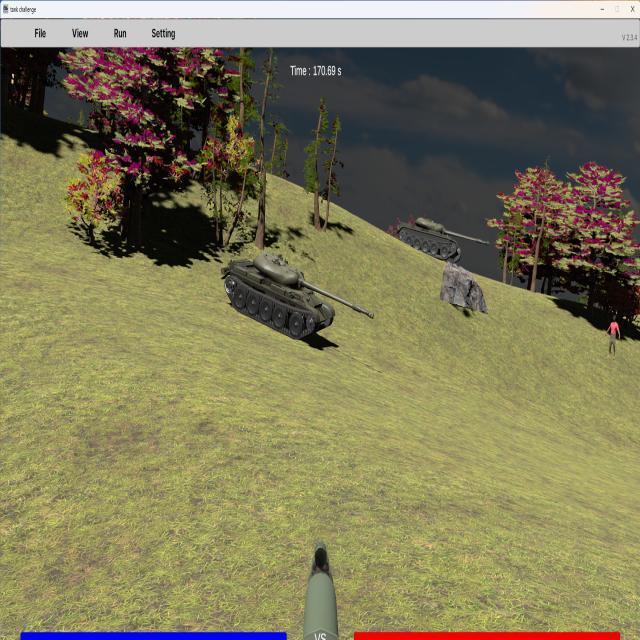Human: (606, 313, 620, 361)
Tank: (221, 253, 375, 341), (397, 217, 488, 264)
